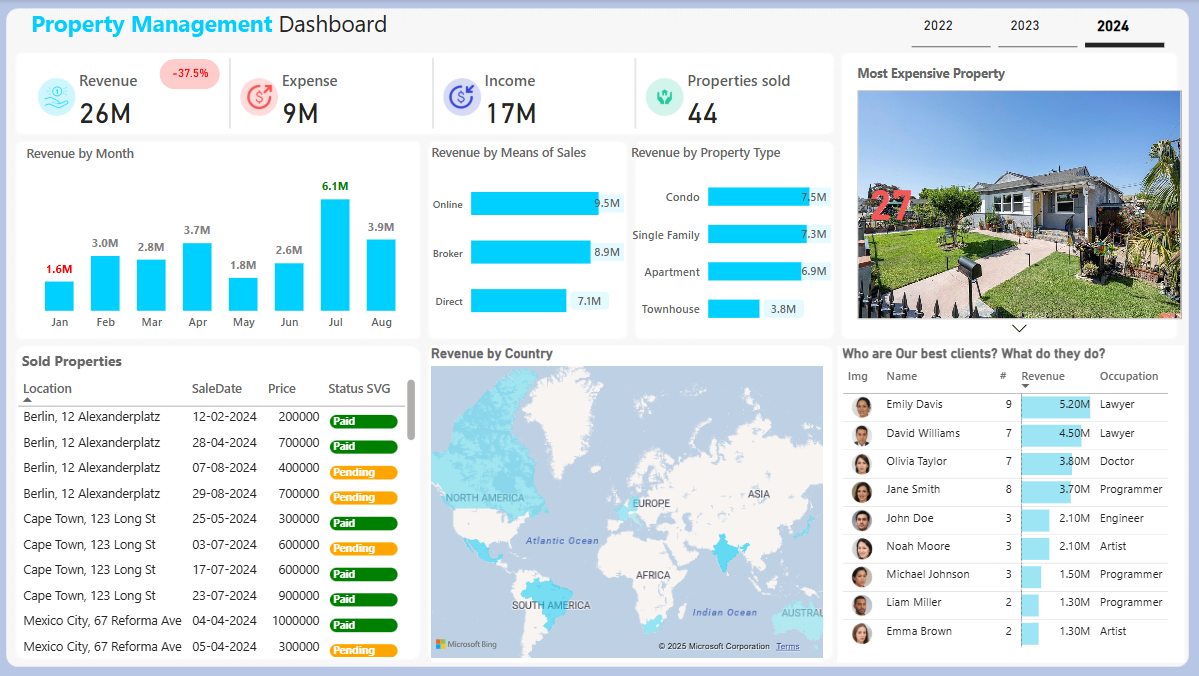

Layout of this report page (visuals, bound fields, positions):
{"tool":"powerbi","page":{"name":"Page 1","canvas":[1280,720],"ordinal":0},"visuals":[{"type":"advancedSlicerVisual","fields":{"Values":["Calendar.Year"]},"box":[969,0,280,56],"z":0},{"type":"cardVisual","fields":{"Data":["Calendar.Revenue","Measures (2).Expense","Measures (2).Income","Measures (2).Properties sold"]},"box":[31,58,864,85],"z":1000},{"type":"card","fields":{"Values":["Measures (2).Revenue Growth %"]},"box":[176,64,64,32],"z":2000},{"type":"shape","box":[176,64,64,32],"z":3000},{"type":"clusteredColumnChart","fields":{"Y":["Calendar.Revenue"],"Category":["Calendar.Month"]},"box":[30,154,422,206],"z":4000},{"type":"clusteredBarChart","fields":{"Y":["Calendar.Revenue"],"Category":["Sales_Table.Means of Sales"]},"box":[460,153,214,208],"z":5000},{"type":"clusteredBarChart","title":"Revenue by Property Type","fields":{"Y":["Calendar.Revenue"],"Category":["Property_Table.Type"]},"box":[674,153,221,208],"z":6000},{"type":"tableEx","fields":{"Values":["Property_Table.Location","Sales_Table.SaleDate","Sum(Property_Table.Price)","Measures (2).Payment Status SVG"]},"box":[20,398,432,304],"z":7000},{"type":"filledMap","fields":{"Category":["Property_Table.Country"]},"box":[464,368,416,336],"z":8000},{"type":"textbox","box":[26,368,128,32],"z":8001},{"type":"tableEx","title":"Who are Our best clients?  What do they do?","fields":{"Values":["Client_Table.Img","Client_Table.Name","Measures (2).Properties sold","Calendar.Revenue","Client_Table.Occupation"]},"box":[896,368,368,336],"z":8002},{"type":"advancedSlicerVisual","fields":{"Values":["Property_Table.PropertyID"]},"box":[912,72,354,288],"z":8003},{"type":"textbox","box":[35,3,448,50],"z":8004},{"type":"textbox","box":[912,64,208,32],"z":8005}]}

Visuals, with their boxes in screenshot pixels (x1, y1, x2, y2), scaled from the page's 1280x720 canvas onto the 1199x676 screenshot:
advancedSlicerVisual - Calendar.Year: 908 0 1170 53
cardVisual - Calendar.Revenue x Measures (2).Expense: 29 54 838 134
card - Measures (2).Revenue Growth %: 165 60 225 90
shape: 165 60 225 90
clusteredColumnChart - Calendar.Revenue x Calendar.Month: 28 145 423 338
clusteredBarChart - Calendar.Revenue x Sales_Table.Means of Sales: 431 144 631 339
"Revenue by Property Type" clusteredBarChart: 631 144 838 339
tableEx - Property_Table.Location x Sales_Table.SaleDate: 19 374 423 659
filledMap - Property_Table.Country: 435 346 824 661
textbox: 24 346 144 376
"Who are Our best clients?  What do they do?" tableEx: 839 346 1184 661
advancedSlicerVisual - Property_Table.PropertyID: 854 68 1186 338
textbox: 33 3 452 50
textbox: 854 60 1049 90
